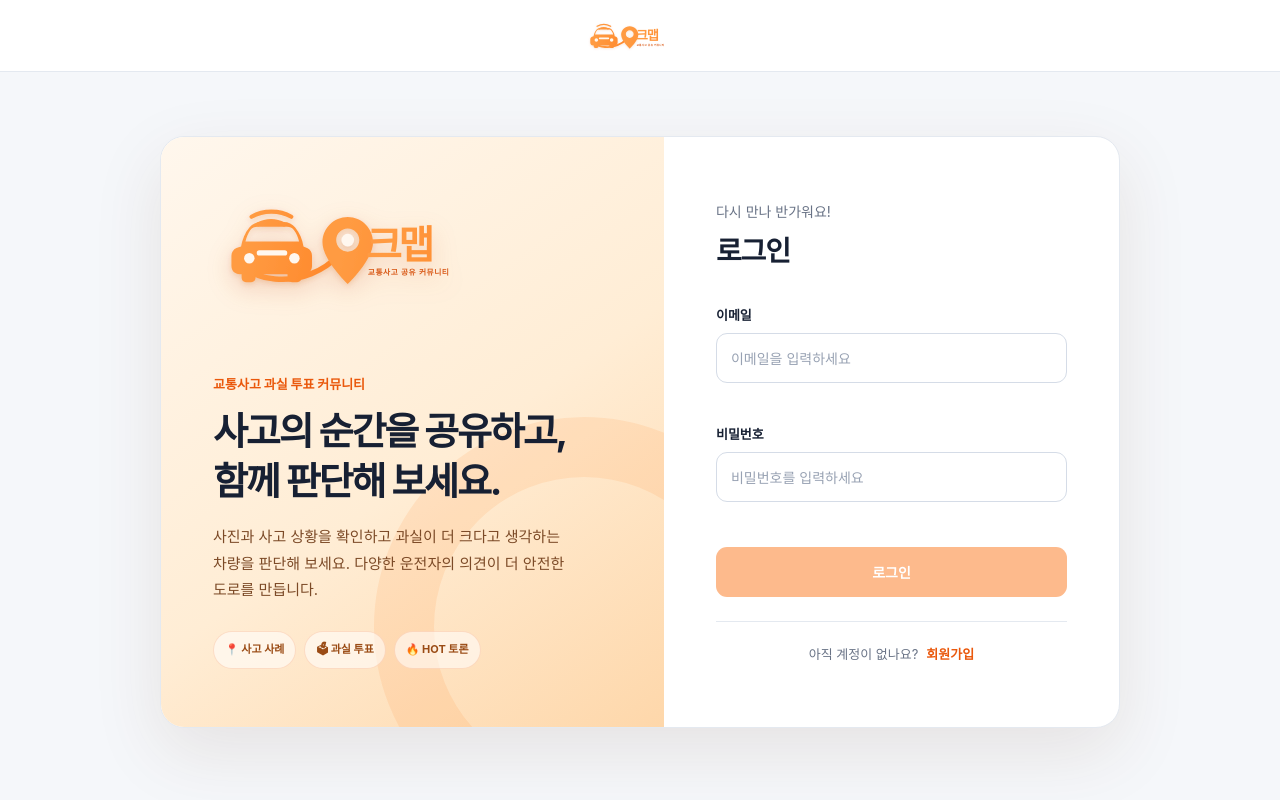
Test: LoginPage › 인증 실패를 사용자가 이해할 수 있는 문구로 표시한다
Type "user@example.com" into the field labelled "이메일".
click(891, 358); type("user@example.com")  # box [716,333,1067,383]
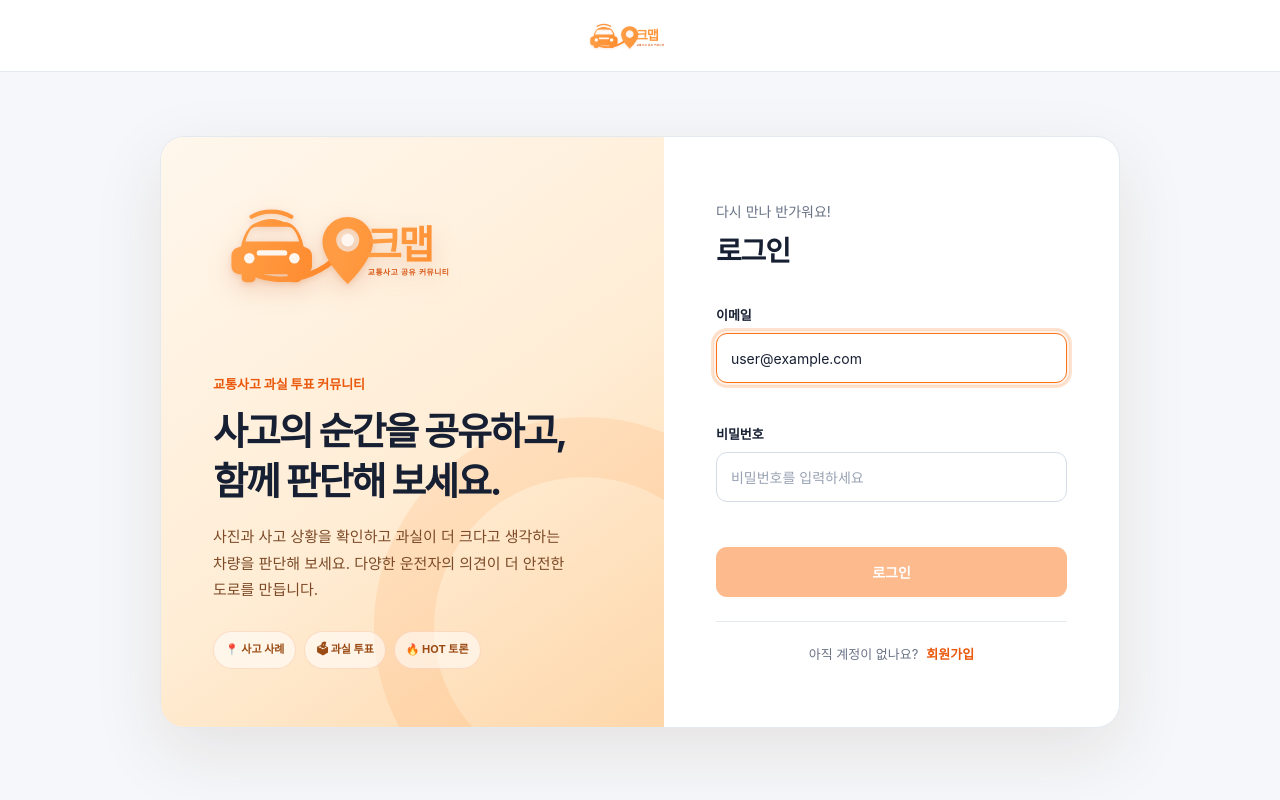
Type "Password1!" into the password field labelled "비밀번호".
click(891, 477); type("Password1!")  # box [716,452,1067,502]
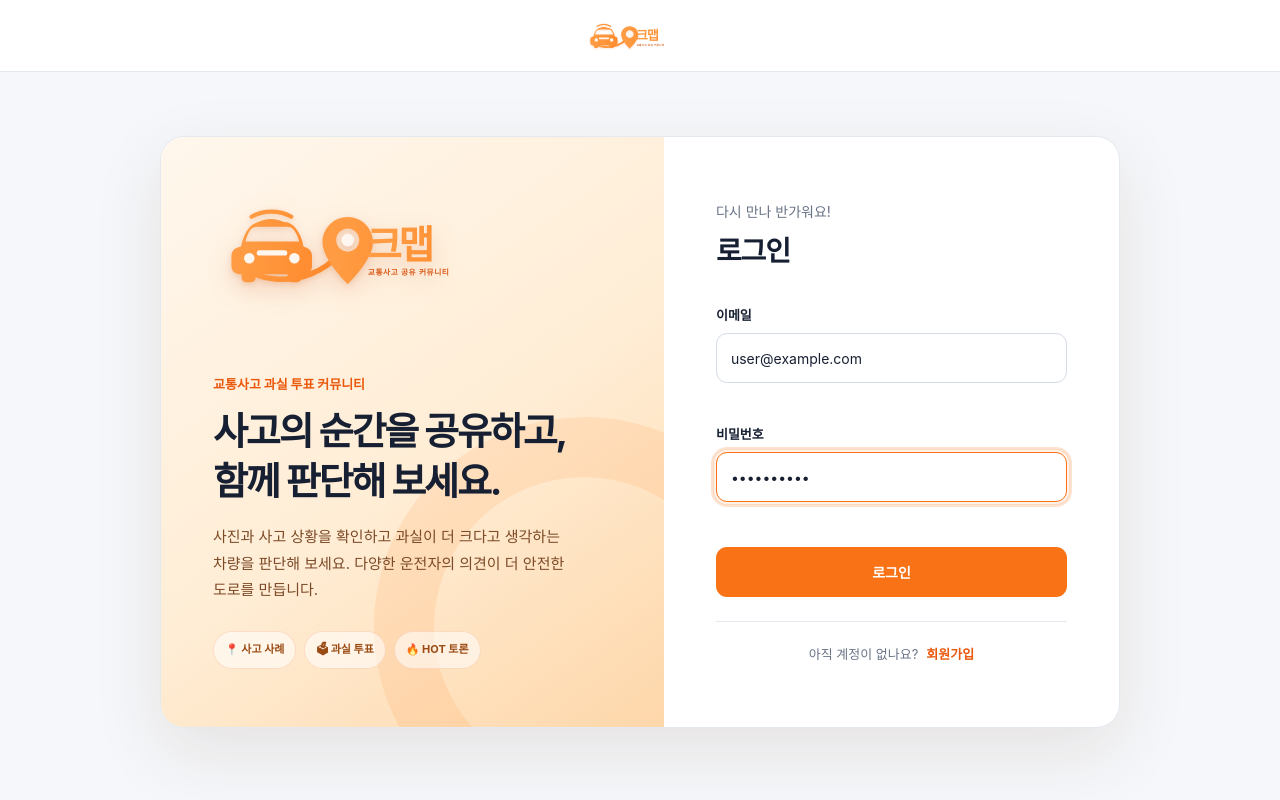
Click the button "로그인".
click(891, 572)  # box [716,547,1067,597]
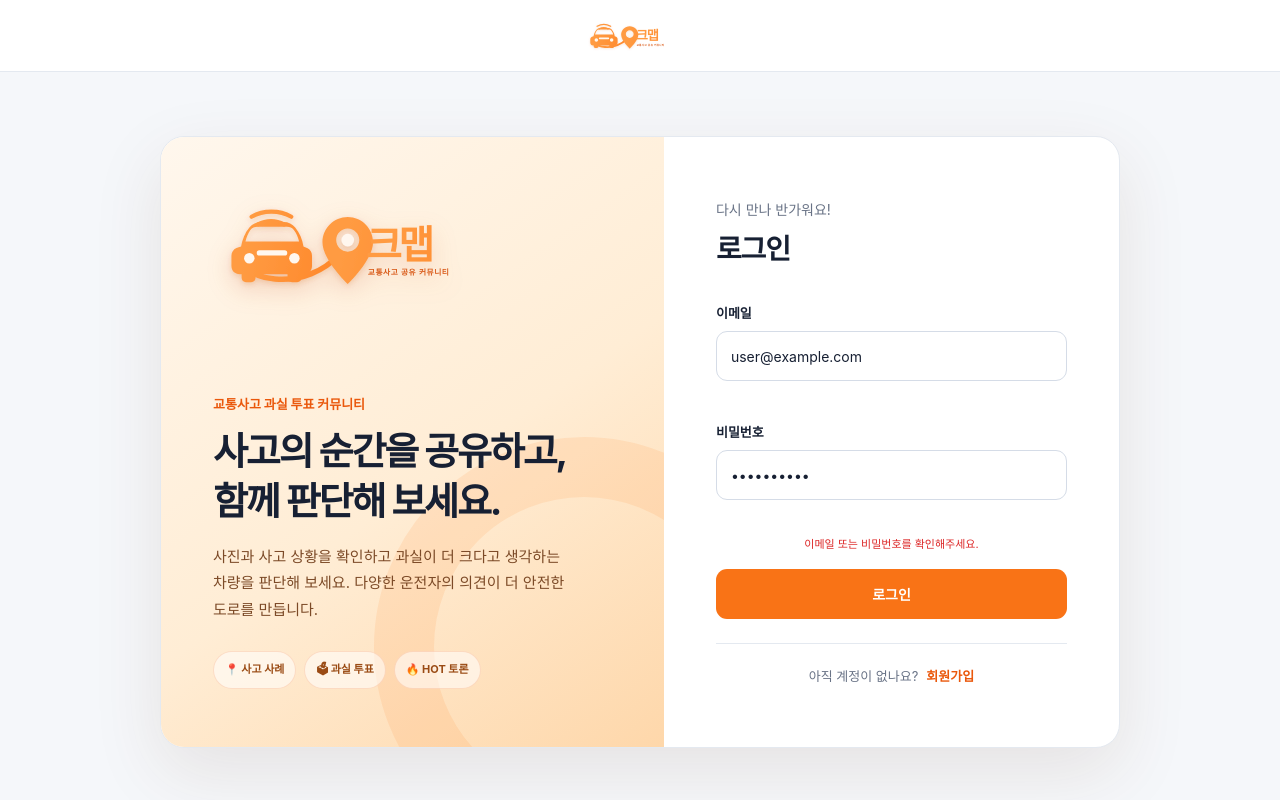
Expected: the button "로그인" is enabled, [716,569,1067,619]
Expected: the message reads "이메일 또는 비밀번호를 확인해주세요.", [804,537,979,551]
